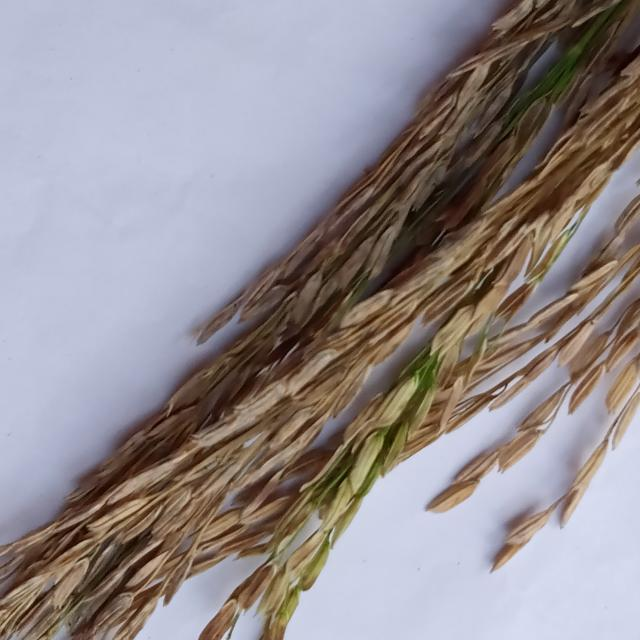Neck_Blast: (0, 5, 640, 640), (359, 64, 640, 461), (411, 195, 640, 569), (180, 439, 328, 640)
